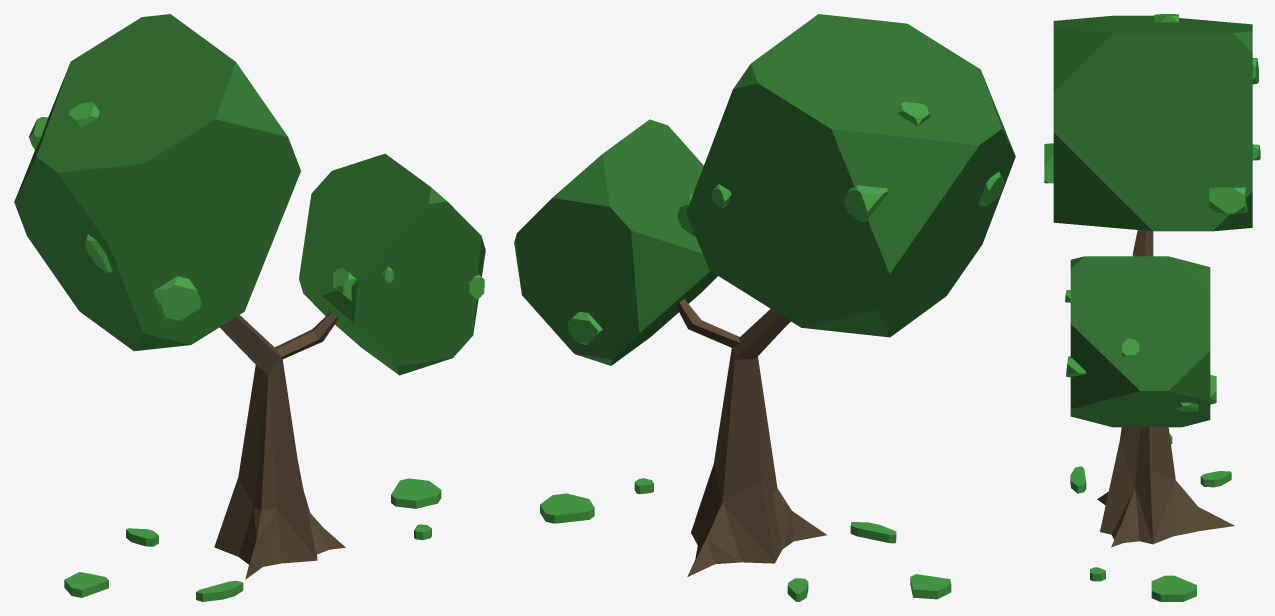
File: Tree_E_03.FBX
3 views of the same model, side by side, from view 1: azimuth 30°, elevation 25°; view 2: azimuth 150°, elevation 25°; view 3: azimuth 270°, elevation 25° (orthographic). The views are drawn at different scales.
Parts seen in each view (by area): view 1: Tree_E_03; view 2: Tree_E_03; view 3: Tree_E_03.
Boxes of the visible parts, left/top/right/bottom form: Tree_E_03: left=14, top=14, right=485, bottom=601; Tree_E_03: left=514, top=14, right=1015, bottom=601; Tree_E_03: left=1044, top=14, right=1260, bottom=601.
Size of the model in its own units: 2.88 by 3.18 by 1.34.
